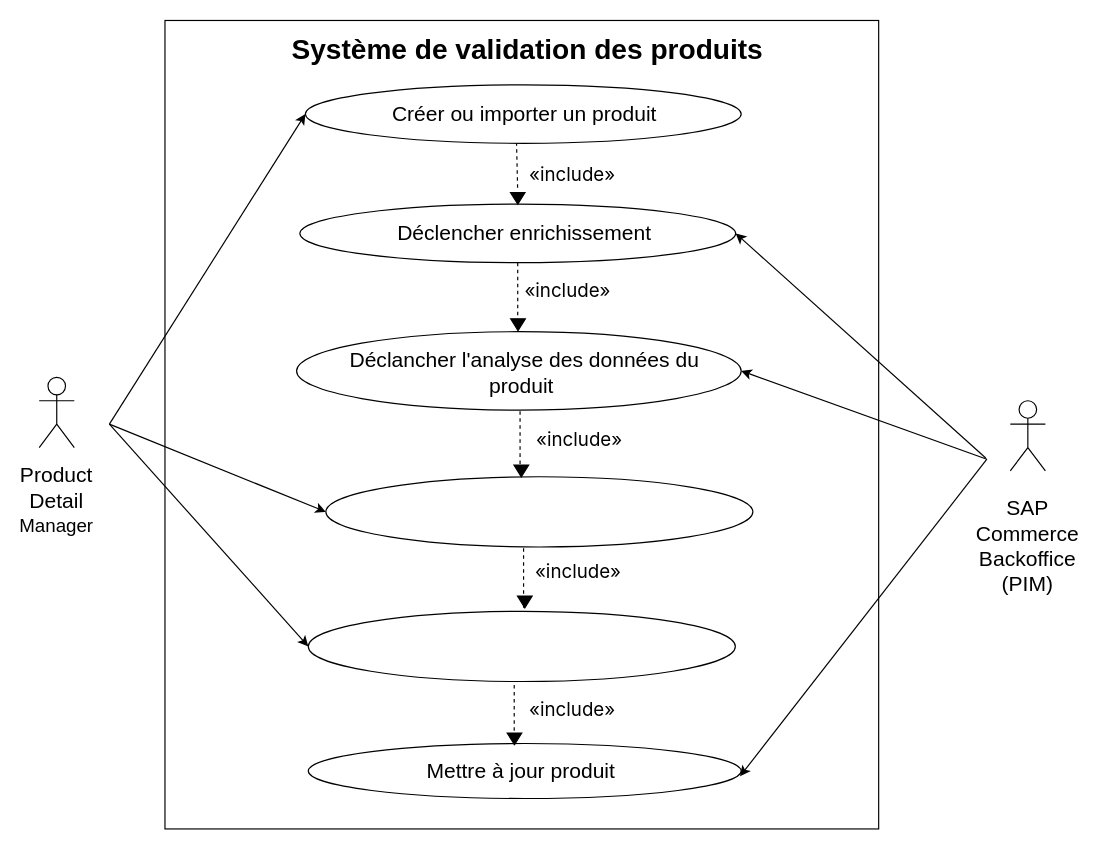
Some shapes in this 1107 by 849 pixel diagram are drawn without their labels. The shapes that lost their labels are listed below. From the top down, each one's centre as x and y in pixels, then its label:
pixel 539 511: Consulter les anomalies et les recommendations
pixel 521 646: Valider/Rejeter les recommendations
